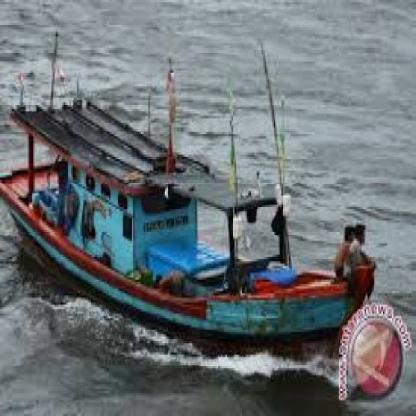fishing boat: (1, 133, 349, 323)
